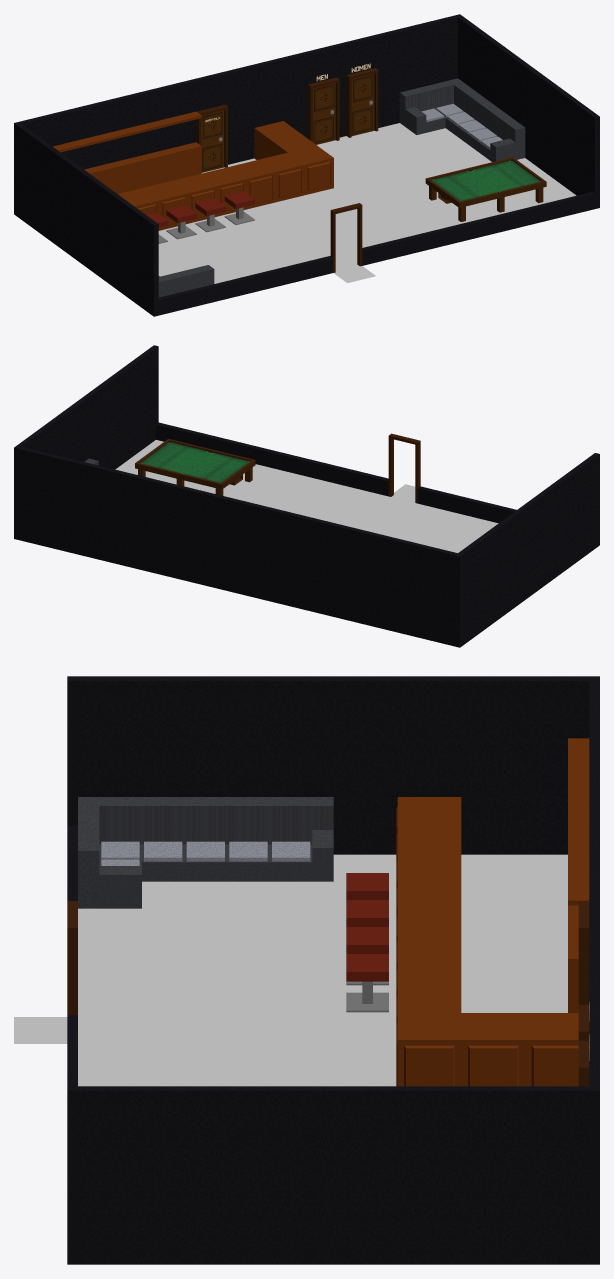
The model's file is TheVergeInnFull.fbx.
3 views of the same model, one above another, from view 1: azimuth 30°, elevation 25°; view 2: azimuth 150°, elevation 25°; view 3: azimuth 270°, elevation 25° (orthographic). The views are drawn at different scales.
Parts seen in each view (by area): view 1: Plane, Cube_6_4, Cube_4_6, Cube_5_6, Bar, Cube_13, Counter, Cube_12, Plane_2, Cube_3_4, Cube_4_4, Cube_1_7 (+16 smaller); view 2: Cube_6_4, Cube_4_6, Plane, Cube_5_6, Cube_13, Plane_2, Cube_12, Cube_1_6, Cube_1_18, Cube_1_13, Cube_2_14; view 3: Cube_5_6, Plane, Cube_4_6, Bar, Cube_4_2, Cube_6_4, Cube_5_2, Cube_1_2, Cube_3_2, Cube_6_3, Cube_2_2, Cube_10 (+17 smaller).
Part boxes in pixels (x1=…): Plane: x1=158, y1=123, x2=576, y2=283; Cube_6_4: x1=19, y1=15, x2=457, y2=169; Cube_4_6: x1=16, y1=124, x2=155, y2=314; Cube_5_6: x1=458, y1=16, x2=596, y2=195; Bar: x1=118, y1=121, x2=333, y2=230; Cube_13: x1=362, y1=192, x2=594, y2=265; Counter: x1=84, y1=142, x2=201, y2=193; Cube_12: x1=158, y1=256, x2=333, y2=315; Plane_2: x1=431, y1=160, x2=540, y2=201; Cube_3_4: x1=399, y1=85, x2=445, y2=134; Cube_4_4: x1=479, y1=115, x2=525, y2=161; Cube_1_7: x1=351, y1=73, x2=374, y2=136; Cube_6_4: x1=19, y1=447, x2=457, y2=646; Cube_4_6: x1=458, y1=455, x2=597, y2=645; Plane: x1=115, y1=440, x2=498, y2=552; Cube_5_6: x1=17, y1=347, x2=155, y2=469; Cube_13: x1=156, y1=422, x2=388, y2=496; Plane_2: x1=140, y1=442, x2=249, y2=482; Cube_12: x1=417, y1=486, x2=516, y2=523; Cube_1_6: x1=135, y1=439, x2=255, y2=489; Cube_1_18: x1=455, y1=553, x2=462, y2=647; Cube_1_13: x1=388, y1=433, x2=420, y2=503; Cube_2_14: x1=14, y1=445, x2=21, y2=539; Cube_5_6: x1=78, y1=1086, x2=589, y2=1264; Plane: x1=78, y1=854, x2=567, y2=1086; Cube_4_6: x1=78, y1=676, x2=589, y2=854; Bar: x1=396, y1=797, x2=578, y2=1086; Cube_4_2: x1=269, y1=797, x2=333, y2=881; Cube_6_4: x1=589, y1=681, x2=599, y2=1086; Cube_5_2: x1=205, y1=797, x2=269, y2=881; Cube_1_2: x1=142, y1=797, x2=205, y2=881; Cube_3_2: x1=78, y1=824, x2=141, y2=908; Cube_6_3: x1=568, y1=738, x2=589, y2=905; Cube_2_2: x1=78, y1=797, x2=141, y2=862; Cube_10: x1=67, y1=1086, x2=77, y2=1264.
Size of the model in its own units: 4600 by 902 by 2750.
29 materials, 13 textured.
